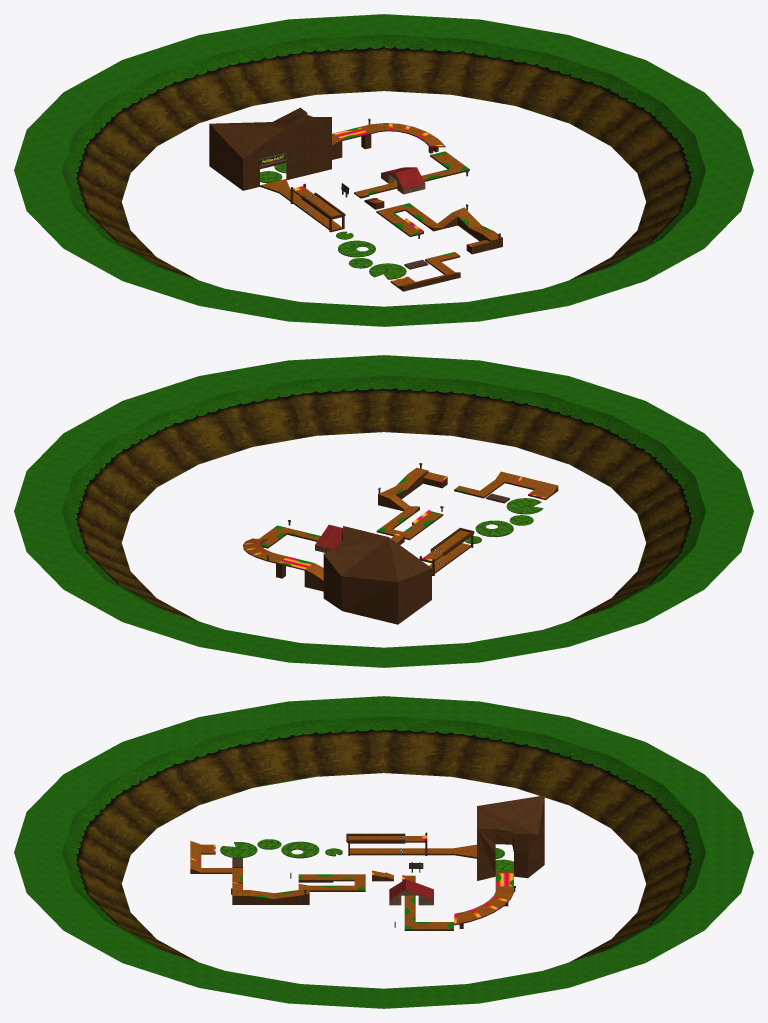
The picture shows the model from 3 angles, top to bottom: view 1: azimuth 30°, elevation 25°; view 2: azimuth 150°, elevation 25°; view 3: azimuth 270°, elevation 25°; orthographic projection.
Parts seen in each view (by area): view 1: wwme2_SKP__grass2, wwme2_SKP__grasswall, wwme2_SKP__woodwall, wwme2_SKP__woodroad, wwme2_SKP__grasswall2, wwme2_SKP__grasswall3, wwme2_SKP__grasswall4, wwme2_SKP__grasswall1, wwme2_SKP__lilypads1, wwme2_SKP__boost; view 2: wwme2_SKP__grasswall, wwme2_SKP__grass2, wwme2_SKP__woodwall, wwme2_SKP__woodroad, wwme2_SKP__grasswall1, wwme2_SKP__lilypads1, wwme2_SKP__grasswall2; view 3: wwme2_SKP__grasswall, wwme2_SKP__grass2, wwme2_SKP__woodwall, wwme2_SKP__woodroad, wwme2_SKP__grasswall4, wwme2_SKP__lilypads1, wwme2_SKP__grasswall3, wwme2_SKP__grass.
Part boxes in pixels (<box>): wwme2_SKP__grass2: <box>14,14,753,326</box>; wwme2_SKP__grasswall: <box>62,52,705,288</box>; wwme2_SKP__woodwall: <box>209,107,502,291</box>; wwme2_SKP__woodroad: <box>260,123,502,286</box>; wwme2_SKP__grasswall2: <box>384,34,467,94</box>; wwme2_SKP__grasswall3: <box>300,34,383,94</box>; wwme2_SKP__grasswall4: <box>223,39,315,105</box>; wwme2_SKP__grasswall1: <box>452,39,544,105</box>; wwme2_SKP__lilypads1: <box>260,163,406,279</box>; wwme2_SKP__boost: <box>293,123,472,281</box>; wwme2_SKP__grasswall: <box>62,375,705,629</box>; wwme2_SKP__grass2: <box>14,355,753,667</box>; wwme2_SKP__woodwall: <box>243,465,558,624</box>; wwme2_SKP__woodroad: <box>243,467,558,580</box>; wwme2_SKP__grasswall1: <box>62,512,130,571</box>; wwme2_SKP__lilypads1: <box>465,498,542,543</box>; wwme2_SKP__grasswall2: <box>73,547,155,597</box>; wwme2_SKP__grasswall: <box>62,716,705,970</box>; wwme2_SKP__grass2: <box>14,696,753,1008</box>; wwme2_SKP__woodwall: <box>190,795,544,930</box>; wwme2_SKP__woodroad: <box>190,836,513,929</box>; wwme2_SKP__grasswall4: <box>637,853,705,912</box>; wwme2_SKP__lilypads1: <box>220,839,513,870</box>; wwme2_SKP__grasswall3: <box>612,888,694,938</box>; wwme2_SKP__grass: <box>240,873,513,929</box>.
Size of the model in its own units: 201832 by 15771 by 201832.
Materials: 23 (22 with a texture image).
